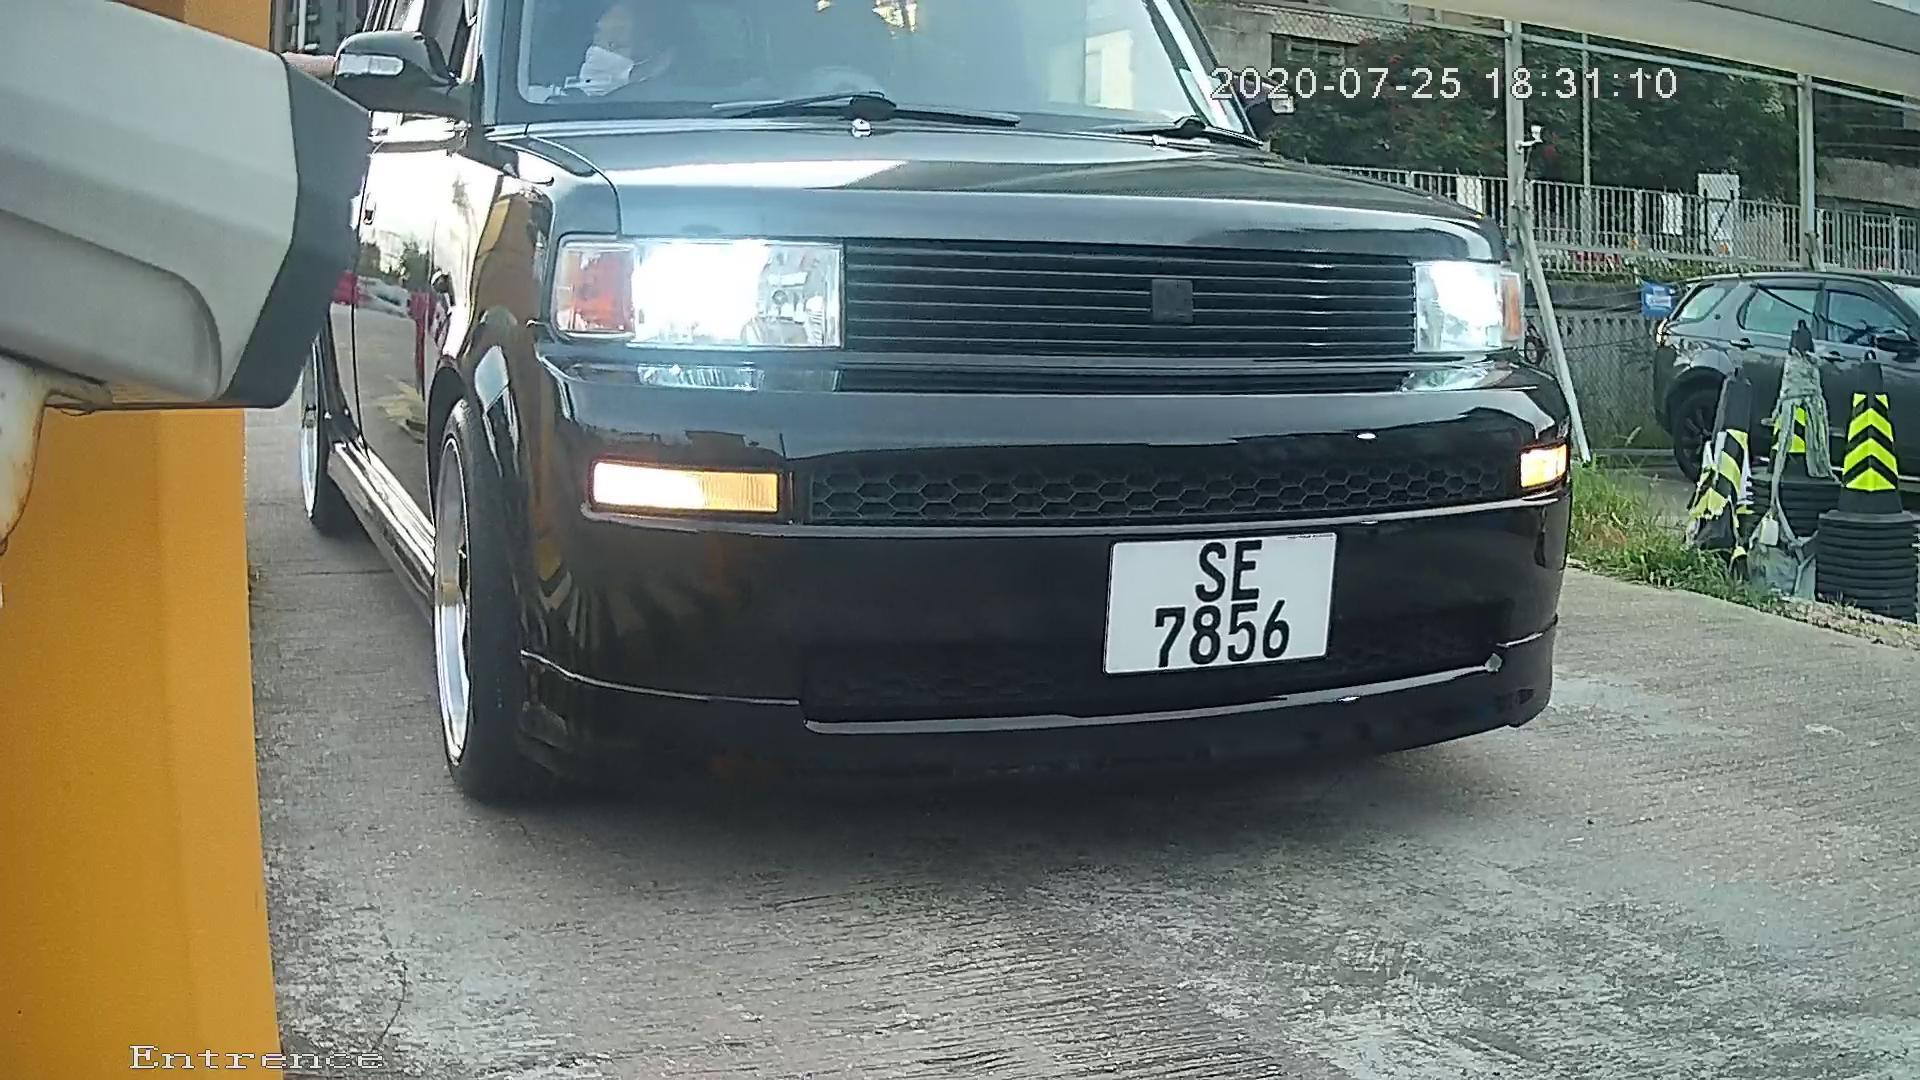privatecar: (276, 20, 1716, 825)
